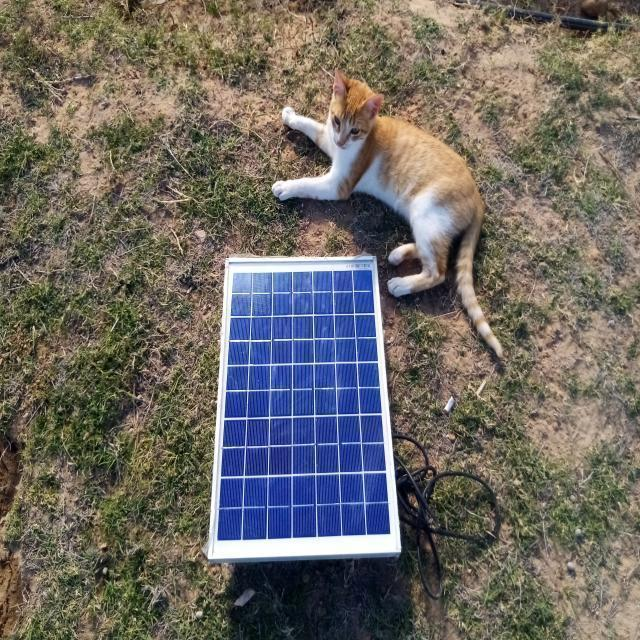Normal Solar Panel: (208, 256, 401, 557)
